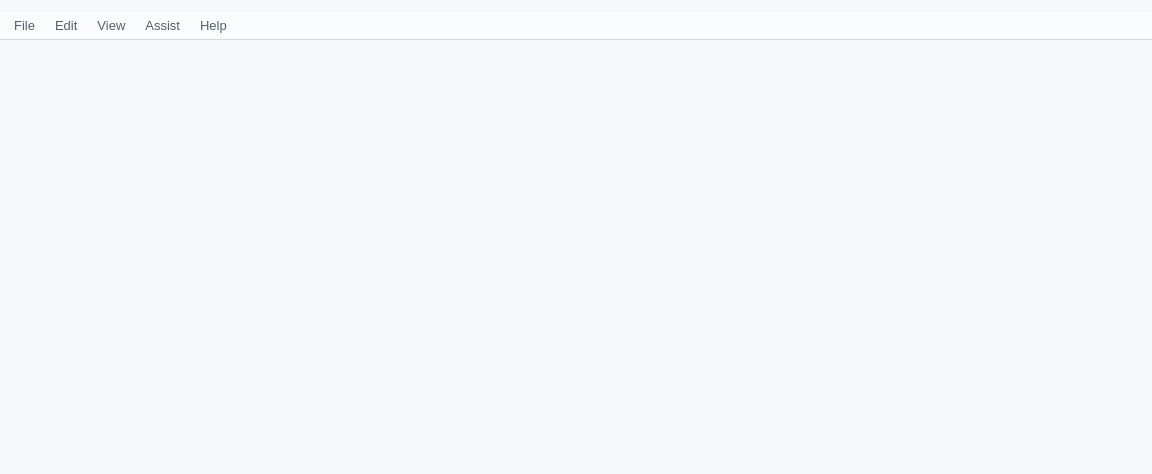
Scenario: ApplicationMenuBar interaction (#663) › opens a top-level popup on click and closes it on the same click again
Click the menu item with class "applicationMenuBarItem" showing "File". click: [24, 26]
box: [4, 14, 45, 37]
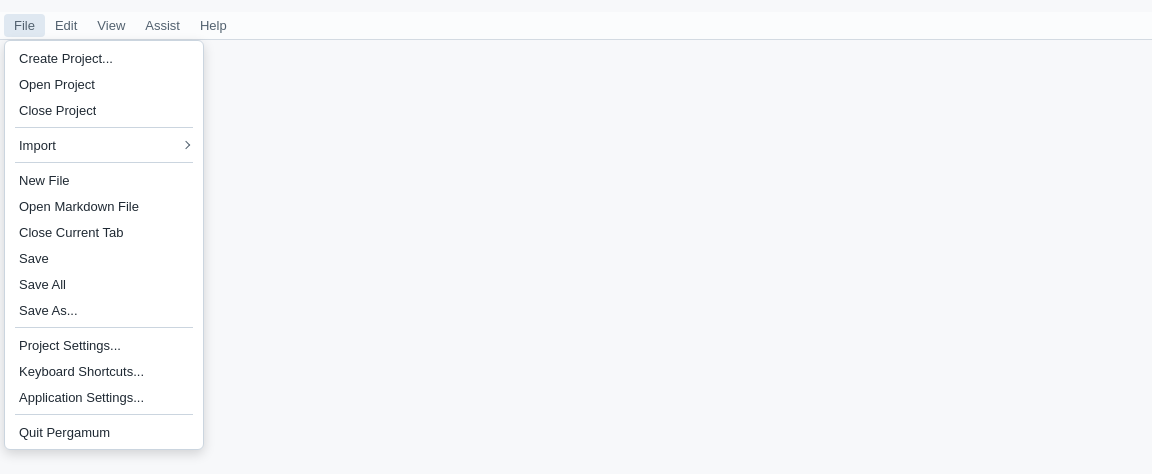
Result: the menu item with class "applicationMenuBarItem" is expanded
Click the menu item with class "applicationMenuBarItem" showing "File". click: [24, 26]
box: [4, 14, 45, 37]
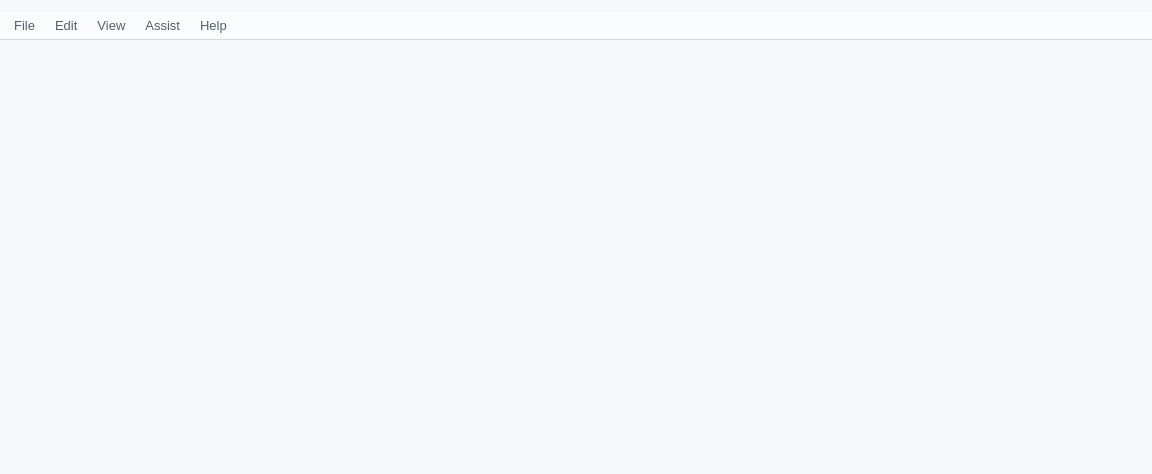
Result: the menu item with class "applicationMenuBarItem" is collapsed at [4, 14, 45, 37]
